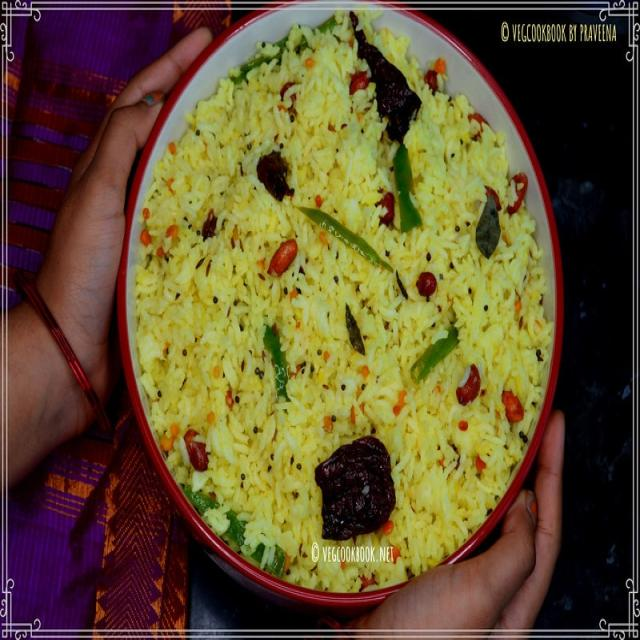lemon rice: (123, 0, 565, 604)
